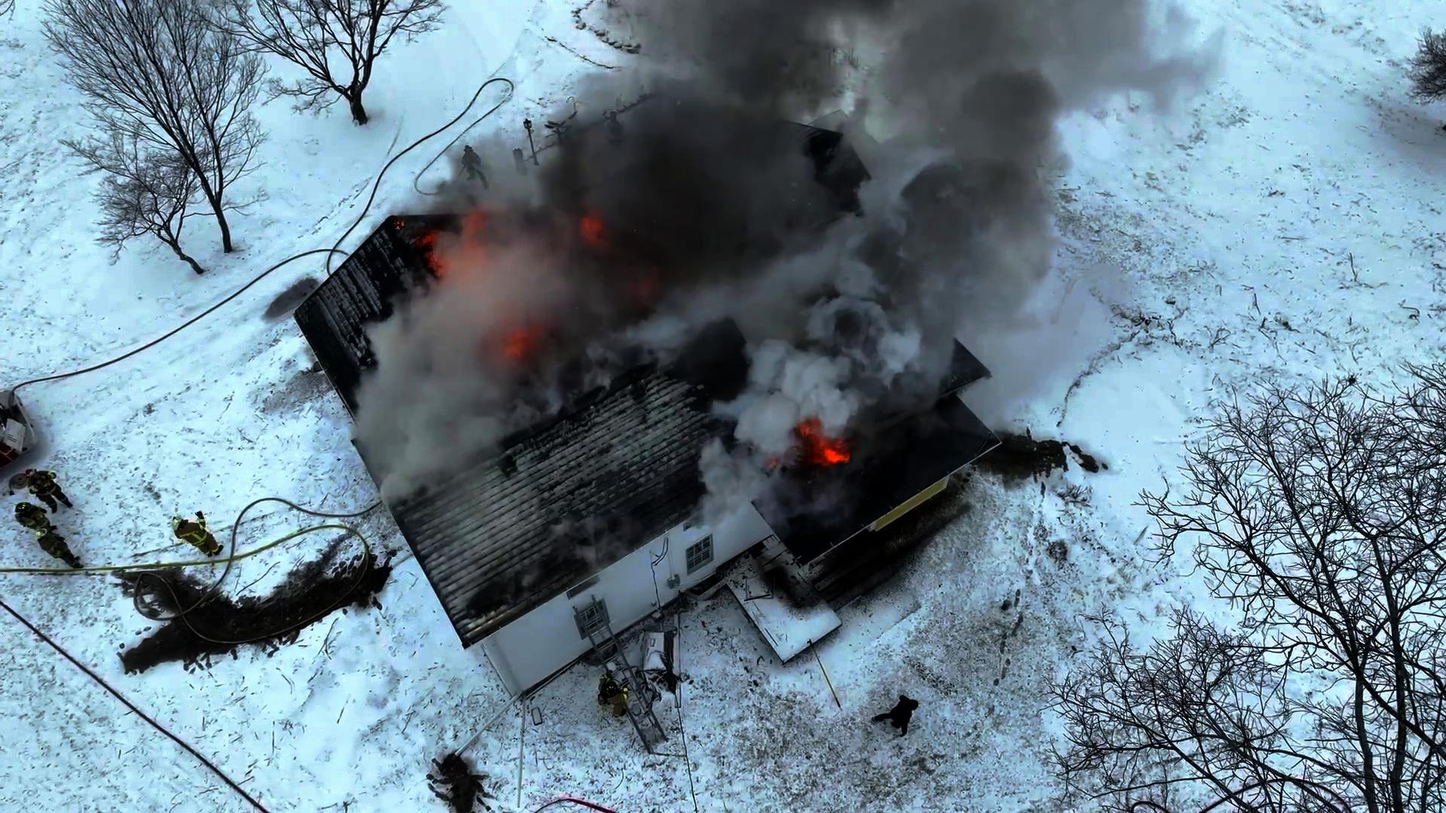smoke: (729, 43, 1032, 315)
